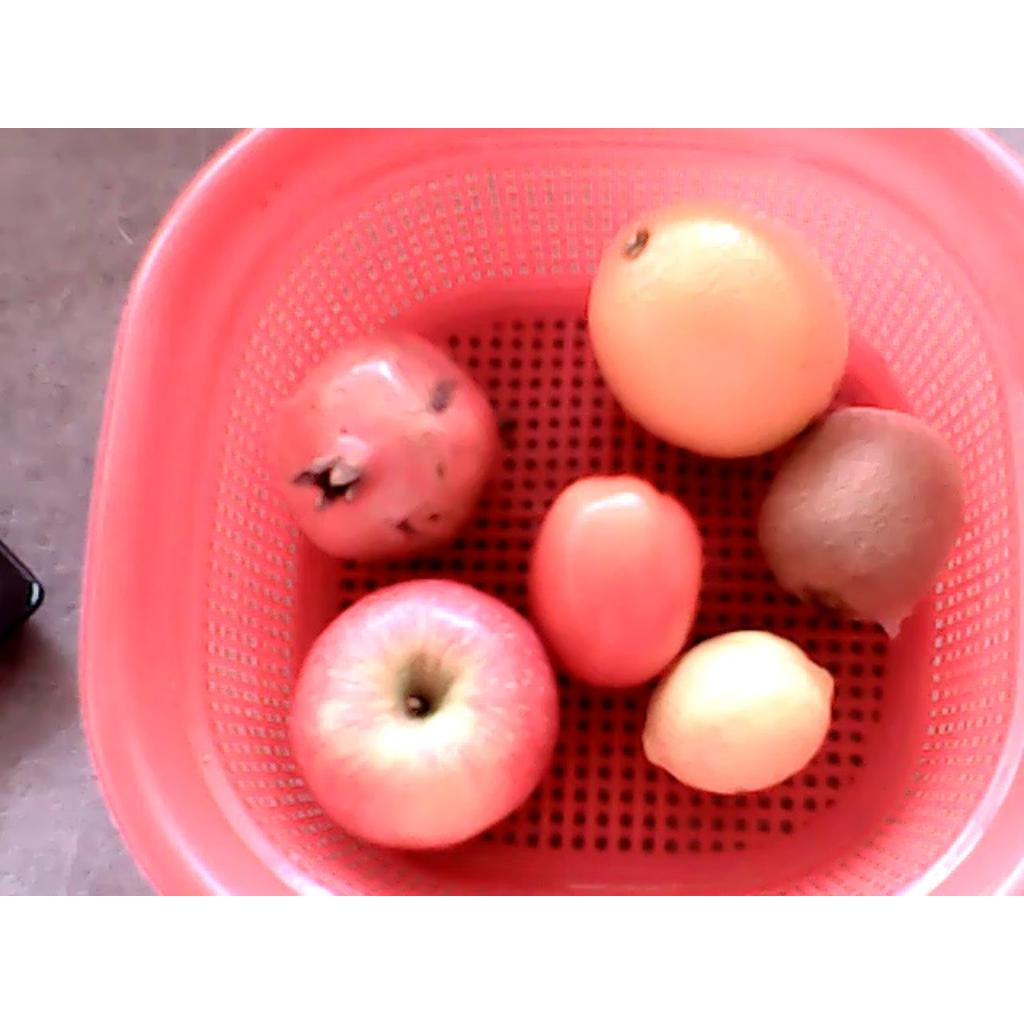apple: (285, 577, 558, 848)
kiwi: (758, 408, 966, 625)
lemon: (644, 632, 833, 796)
orange: (588, 205, 850, 457)
pomegranate: (269, 330, 494, 565)
tomato: (529, 473, 701, 687)
